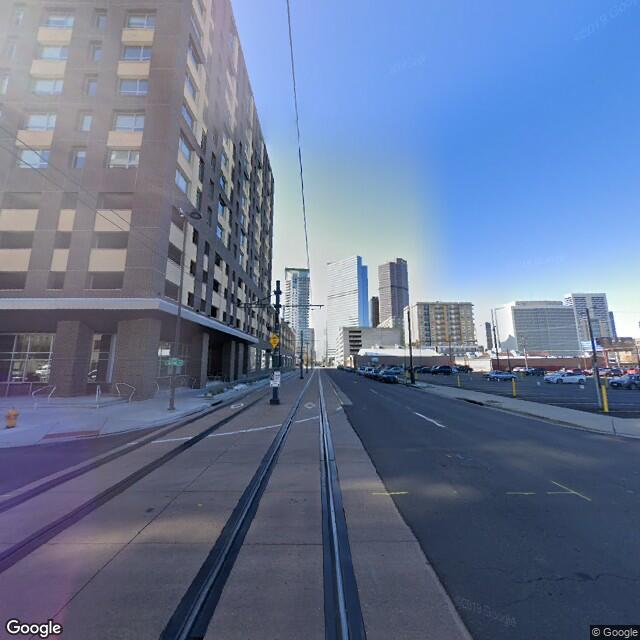fh: (4, 404, 21, 431)
